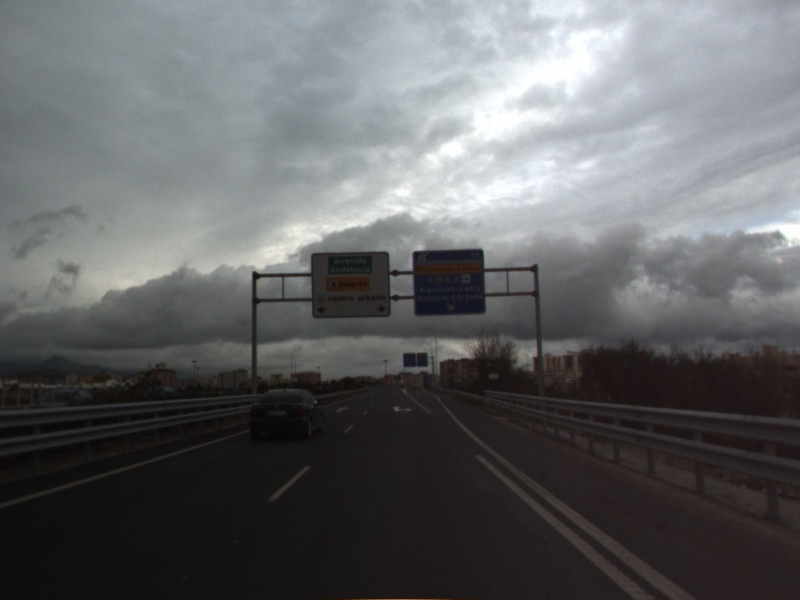STRAIGHT: (333, 404, 351, 414)
STRAIGHT_RIGHT: (389, 404, 415, 414)
